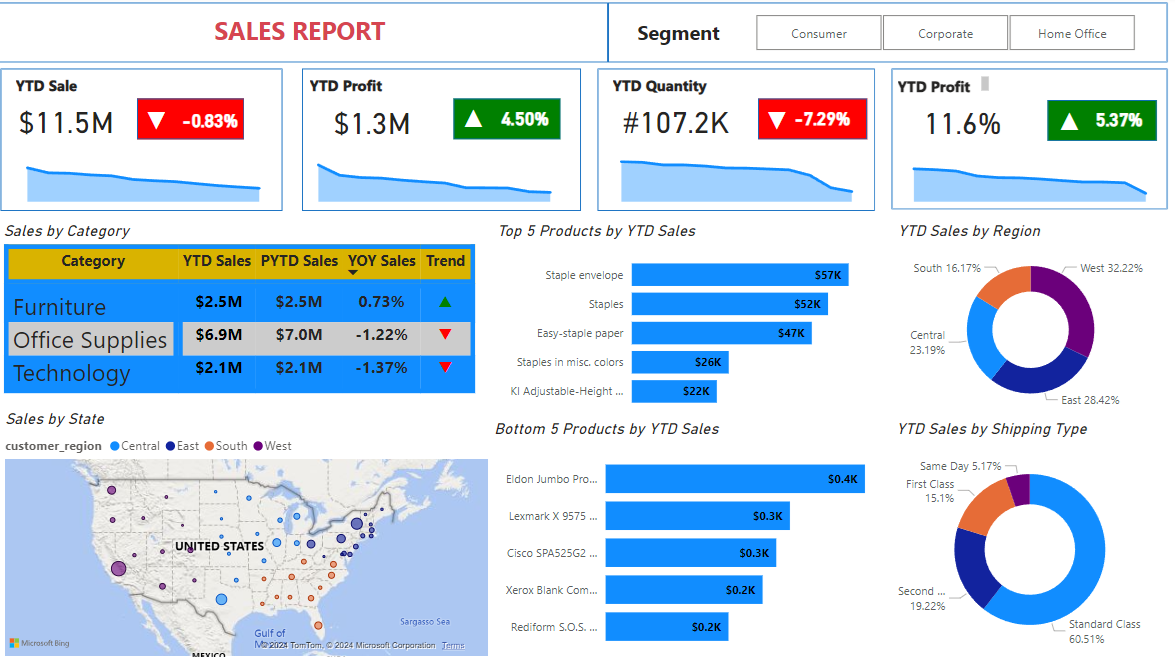

This screenshot's page, from the dashboard's own definition file:
{"tool":"powerbi","page":{"name":"Page 1","canvas":[1280,720],"ordinal":0},"visuals":[{"type":"shape","box":[652.5,79.3,299.6,153.8],"z":0},{"type":"shape","box":[138.8,107.3,159.8,35.8],"z":1000},{"type":"shape","box":[8.1,79.3,304.4,153.8],"z":2000},{"type":"shape","box":[333.6,79.3,301.2,153.8],"z":3000},{"type":"shape","box":[826.5,111.5,117.8,44.2],"z":4000},{"type":"shape","box":[496.3,111.5,115.7,44.2],"z":5000},{"type":"shape","box":[969.9,79.3,297.9,152.2],"z":6000},{"type":"shape","box":[663.9,8.1,604,64.8],"z":6500},{"type":"shape","box":[155.6,111.5,115.7,44.2],"z":7000},{"type":"shape","box":[1137.7,113.6,117.8,44.2],"z":8000},{"type":"slicer","fields":{"Values":["ecommerce_data.customer_segment"]},"box":[798.3,14.6,458.2,51.8],"z":9000},{"type":"card","fields":{"Values":["ecommerce_data.YTD Sales"]},"box":[20,113.3,118.3,43.3],"z":10000},{"type":"card","fields":{"Values":["ecommerce_data.YTD Profit Margin"]},"box":[992.6,113.6,107,44.2],"z":11000},{"type":"card","fields":{"Values":["ecommerce_data.Profit Margin Icon"]},"box":[1137.7,111.5,46.3,48.4],"z":12000},{"type":"areaChart","fields":{"Category":["Calendar.Month"],"Y":["Sum(ecommerce_data.sales_per_order)"]},"box":[22.7,165.2,278.5,63.1],"z":13000},{"type":"card","fields":{"Values":["ecommerce_data.YTD profit"]},"box":[354.6,113.3,108.5,45.3],"z":14000},{"type":"card","fields":{"Values":["ecommerce_data.YOY Qty"]},"box":[841.2,111.5,105.1,44.2],"z":15000},{"type":"card","fields":{"Values":["ecommerce_data.YOY Profit"]},"box":[536.3,111.5,75.7,44.2],"z":16000},{"type":"card","fields":{"Values":["ecommerce_data.YTD Concate Qty"]},"box":[671.7,111.7,130,45],"z":17000},{"type":"card","fields":{"Values":["ecommerce_data.Sales icon"]},"box":[157.7,109.4,37.9,50.5],"z":18000},{"type":"card","fields":{"Values":["ecommerce_data.Qty Icon"]},"box":[826.5,111.5,40,46.3],"z":19000},{"type":"card","fields":{"Values":["ecommerce_data.YOY ProfitMargin"]},"box":[1173.5,111.5,82,46.3],"z":20000},{"type":"card","fields":{"Values":["ecommerce_data.YOY Sales"]},"box":[195.6,113.6,75.7,44.2],"z":21000},{"type":"areaChart","fields":{"Category":["Calendar.Month"],"Y":["Sum(ecommerce_data.profit_per_order)"]},"box":[336.8,165.2,278.5,63.1],"z":22000},{"type":"areaChart","fields":{"Category":["Calendar.Month"],"Y":["Sum(ecommerce_data.order_quantity)"]},"box":[663.9,165.2,276.9,63.1],"z":23000},{"type":"areaChart","fields":{"Category":["Calendar.Month"],"Y":["ecommerce_data.Profit Margin"]},"box":[979.6,165.2,278.5,63.1],"z":24000},{"type":"pivotTable","title":"Sales by Category","fields":{"Rows":["ecommerce_data.category_name"],"Values":["ecommerce_data.YTD Sales","ecommerce_data.PYTD Sales","ecommerce_data.YOY Sales","ecommerce_data.Sales icon"]},"box":[6.5,244.5,547.3,202.4],"z":25000},{"type":"card","fields":{"Values":["ecommerce_data.Profit Icon"]},"box":[496.3,109.4,42.1,46.3],"z":26000},{"type":"barChart","title":"Top 5 Products by YTD Sales ","fields":{"Category":["ecommerce_data.product_name"],"Y":["ecommerce_data.YTD Sales"]},"box":[539.2,244.5,430.7,213.7],"z":27000},{"type":"barChart","title":"Bottom 5 Products by YTD Sales ","fields":{"Category":["ecommerce_data.product_name"],"Y":["ecommerce_data.YTD Sales"]},"box":[536,458.2,446.9,260.7],"z":28000},{"type":"donutChart","title":"YTD Sales by Region","fields":{"Y":["ecommerce_data.YTD Sales"],"Category":["ecommerce_data.customer_region"]},"box":[971.5,244.5,296.3,213.7],"z":29000},{"type":"donutChart","title":"YTD Sales by Shipping Type","fields":{"Category":["ecommerce_data.shipping_type"],"Y":["ecommerce_data.YTD Sales"]},"box":[969.9,458.2,297.9,260.7],"z":30000},{"type":"map","title":"Sales by State","fields":{"Series":["ecommerce_data.customer_region"],"Y":["us_state_long_lat_codes.latitude"],"X":["us_state_long_lat_codes.longitude"],"Size":["ecommerce_data.YTD Sales"]},"box":[8.1,446.9,531.1,272],"z":31000},{"type":"shape","box":[6.5,8.1,657.4,64.8],"z":32500},{"type":"textbox","box":[19.4,81,93.9,34],"z":33000},{"type":"textbox","box":[337.5,81.4,103.5,33.9],"z":34000},{"type":"textbox","box":[663.9,81,121.4,34],"z":35000},{"type":"textbox","box":[971.5,82.6,108.5,35.6],"z":36000},{"type":"textbox","box":[678.5,19.4,123.1,43.7],"z":38000},{"type":"textbox","box":[22.7,14.6,616.9,51.8],"z":40000}]}

Visuals, with their boxes in screenshot pixels (x1, y1, x2, y2), scaled from the page's 1280x720 canvas onto the 1175x657 screenshot:
shape: (x1=599, y1=72, x2=874, y2=213)
shape: (x1=127, y1=98, x2=274, y2=131)
shape: (x1=7, y1=72, x2=287, y2=213)
shape: (x1=306, y1=72, x2=583, y2=213)
shape: (x1=759, y1=102, x2=867, y2=142)
shape: (x1=456, y1=102, x2=562, y2=142)
shape: (x1=890, y1=72, x2=1164, y2=211)
shape: (x1=609, y1=7, x2=1164, y2=67)
shape: (x1=143, y1=102, x2=249, y2=142)
shape: (x1=1044, y1=104, x2=1153, y2=144)
slicer - ecommerce_data.customer_segment: (x1=733, y1=13, x2=1153, y2=61)
card - ecommerce_data.YTD Sales: (x1=18, y1=103, x2=127, y2=143)
card - ecommerce_data.YTD Profit Margin: (x1=911, y1=104, x2=1009, y2=144)
card - ecommerce_data.Profit Margin Icon: (x1=1044, y1=102, x2=1087, y2=146)
areaChart - Calendar.Month x Sum(ecommerce_data.sales_per_order): (x1=21, y1=151, x2=276, y2=208)
card - ecommerce_data.YTD profit: (x1=326, y1=103, x2=425, y2=145)
card - ecommerce_data.YOY Qty: (x1=772, y1=102, x2=869, y2=142)
card - ecommerce_data.YOY Profit: (x1=492, y1=102, x2=562, y2=142)
card - ecommerce_data.YTD Concate Qty: (x1=617, y1=102, x2=736, y2=143)
card - ecommerce_data.Sales icon: (x1=145, y1=100, x2=180, y2=146)
card - ecommerce_data.Qty Icon: (x1=759, y1=102, x2=795, y2=144)
card - ecommerce_data.YOY ProfitMargin: (x1=1077, y1=102, x2=1153, y2=144)
card - ecommerce_data.YOY Sales: (x1=180, y1=104, x2=249, y2=144)
areaChart - Calendar.Month x Sum(ecommerce_data.profit_per_order): (x1=309, y1=151, x2=565, y2=208)
areaChart - Calendar.Month x Sum(ecommerce_data.order_quantity): (x1=609, y1=151, x2=864, y2=208)
areaChart - Calendar.Month x ecommerce_data.Profit Margin: (x1=899, y1=151, x2=1155, y2=208)
"Sales by Category" pivotTable: (x1=6, y1=223, x2=508, y2=408)
card - ecommerce_data.Profit Icon: (x1=456, y1=100, x2=494, y2=142)
"Top 5 Products by YTD Sales " barChart: (x1=495, y1=223, x2=890, y2=418)
"Bottom 5 Products by YTD Sales " barChart: (x1=492, y1=418, x2=902, y2=656)
"YTD Sales by Region" donutChart: (x1=892, y1=223, x2=1164, y2=418)
"YTD Sales by Shipping Type" donutChart: (x1=890, y1=418, x2=1164, y2=656)
"Sales by State" map: (x1=7, y1=408, x2=495, y2=656)
shape: (x1=6, y1=7, x2=609, y2=67)
textbox: (x1=18, y1=74, x2=104, y2=105)
textbox: (x1=310, y1=74, x2=405, y2=105)
textbox: (x1=609, y1=74, x2=721, y2=105)
textbox: (x1=892, y1=75, x2=991, y2=108)
textbox: (x1=623, y1=18, x2=736, y2=58)
textbox: (x1=21, y1=13, x2=587, y2=61)
